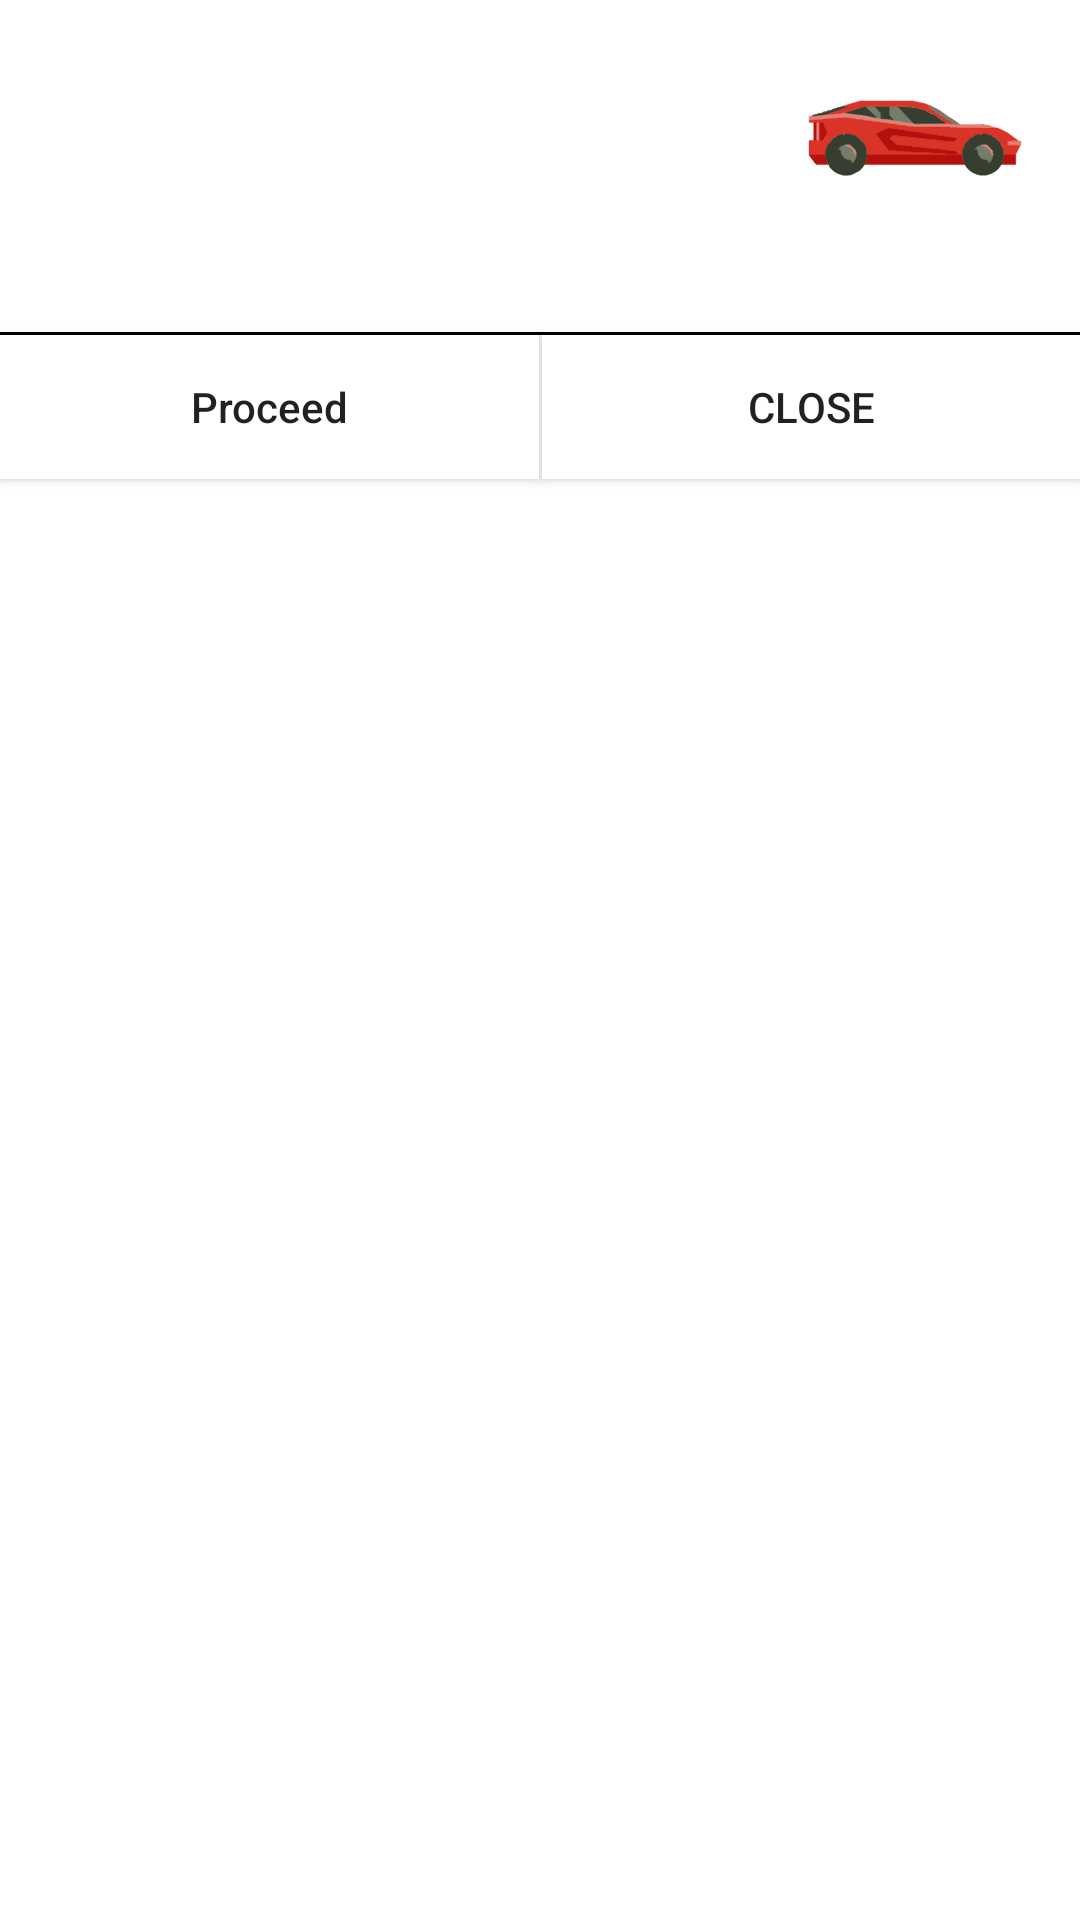

Locate icon controls on the screen. Image size 1080px×1920px, boxes as bbox=(x1, y1, x2, y2).
car: bbox=(808, 100, 1021, 176)
